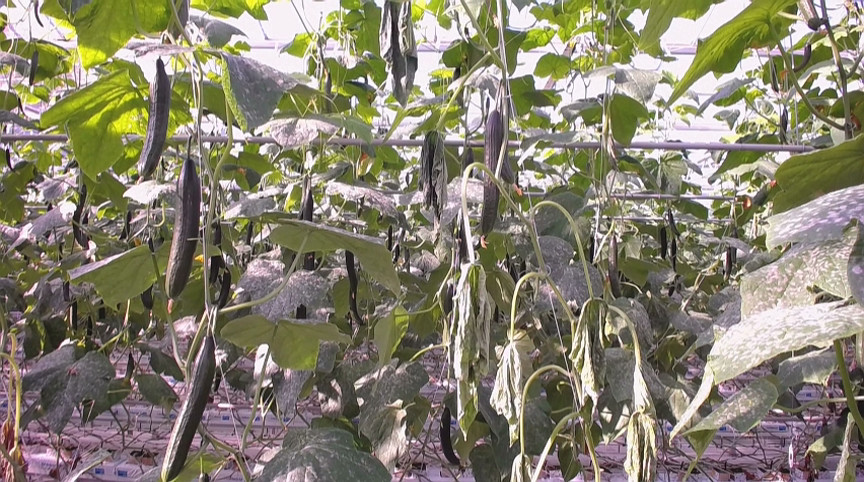cucumber: (162, 335, 216, 481), (166, 159, 200, 298), (138, 60, 171, 178), (481, 110, 502, 234), (439, 407, 461, 465), (608, 235, 627, 298)
